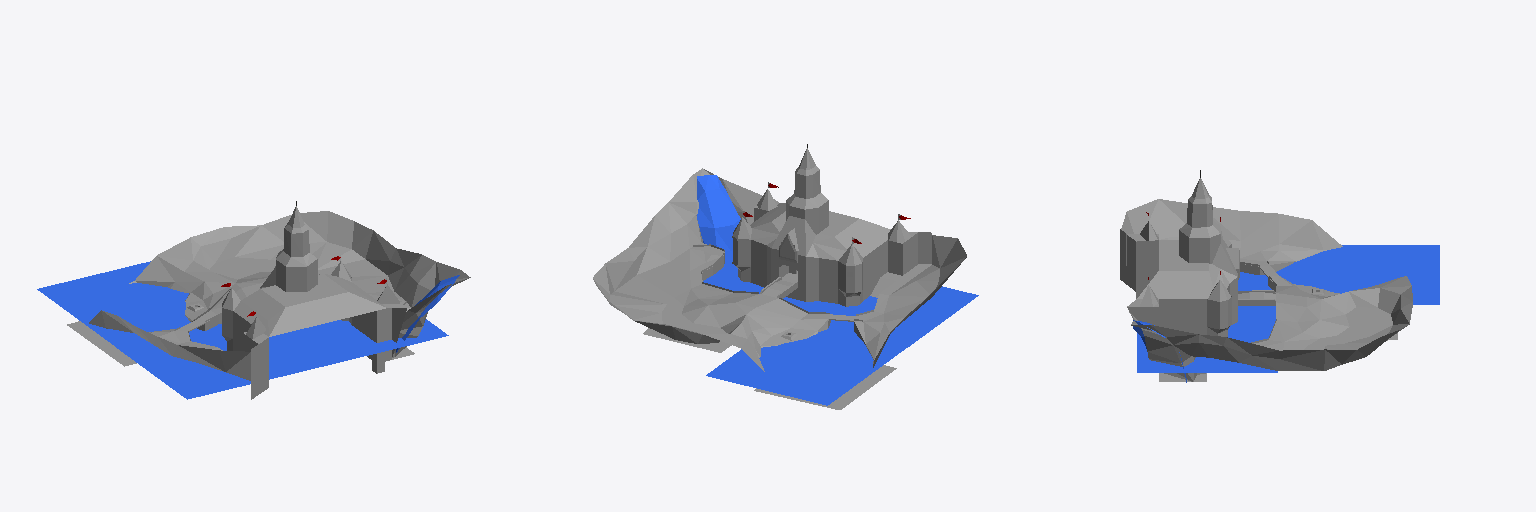
File: PeachsCastle.obj
The picture shows the model from 3 angles: view 1: azimuth 30°, elevation 25°; view 2: azimuth 150°, elevation 25°; view 3: azimuth 270°, elevation 25°; orthographic projection.
Parts seen in each view (by area): view 1: Indexed137_Indexed259, Indexed038_Indexed160, Indexed012_Indexed134, Indexed017_Indexed139, Indexed022_Indexed144, Indexed023_Indexed145, Indexed071_Indexed193, Indexed034_Indexed156, Indexed030_Indexed152, Indexed026_Indexed148, Indexed070_Indexed192; view 2: Indexed137_Indexed259, Indexed038_Indexed160, Indexed022_Indexed144, Indexed017_Indexed139, Indexed012_Indexed134, Indexed023_Indexed145, Indexed136_Indexed258, Indexed030_Indexed152, Indexed071_Indexed193, Indexed026_Indexed148, Indexed070_Indexed192, Indexed034_Indexed156 (+1 smaller); view 3: Indexed038_Indexed160, Indexed137_Indexed259, Indexed012_Indexed134, Indexed017_Indexed139, Indexed023_Indexed145, Indexed022_Indexed144, Indexed071_Indexed193, Indexed034_Indexed156, Indexed030_Indexed152, Indexed070_Indexed192.
Boxes of the visible parts, x1,y1,x2,y2 form: Indexed137_Indexed259: [37, 261, 448, 399]; Indexed038_Indexed160: [101, 211, 459, 380]; Indexed012_Indexed134: [222, 261, 399, 339]; Indexed017_Indexed139: [222, 303, 406, 399]; Indexed022_Indexed144: [151, 242, 410, 347]; Indexed023_Indexed145: [174, 257, 275, 350]; Indexed071_Indexed193: [276, 228, 317, 291]; Indexed034_Indexed156: [89, 270, 470, 357]; Indexed030_Indexed152: [149, 272, 259, 332]; Indexed026_Indexed148: [67, 321, 136, 366]; Indexed070_Indexed192: [276, 206, 316, 266]; Indexed137_Indexed259: [703, 250, 978, 405]; Indexed038_Indexed160: [593, 175, 966, 371]; Indexed022_Indexed144: [610, 243, 939, 332]; Indexed017_Indexed139: [733, 199, 931, 306]; Indexed012_Indexed134: [733, 189, 911, 265]; Indexed023_Indexed145: [643, 247, 921, 352]; Indexed136_Indexed258: [697, 175, 740, 251]; Indexed030_Indexed152: [721, 303, 889, 359]; Indexed071_Indexed193: [786, 170, 828, 234]; Indexed026_Indexed148: [754, 365, 896, 409]; Indexed070_Indexed192: [787, 148, 827, 209]; Indexed034_Indexed156: [693, 168, 888, 367]; Indexed038_Indexed160: [1121, 199, 1412, 370]; Indexed137_Indexed259: [1137, 245, 1439, 372]; Indexed012_Indexed134: [1136, 221, 1238, 306]; Indexed017_Indexed139: [1120, 229, 1238, 336]; Indexed023_Indexed145: [1240, 259, 1397, 346]; Indexed022_Indexed144: [1161, 237, 1392, 350]; Indexed071_Indexed193: [1179, 200, 1220, 263]; Indexed034_Indexed156: [1131, 220, 1342, 381]; Indexed030_Indexed152: [1268, 244, 1355, 313]; Indexed070_Indexed192: [1179, 178, 1220, 237].
Bounding box in the file's own units: 16.44 × 9.96 × 16.22.